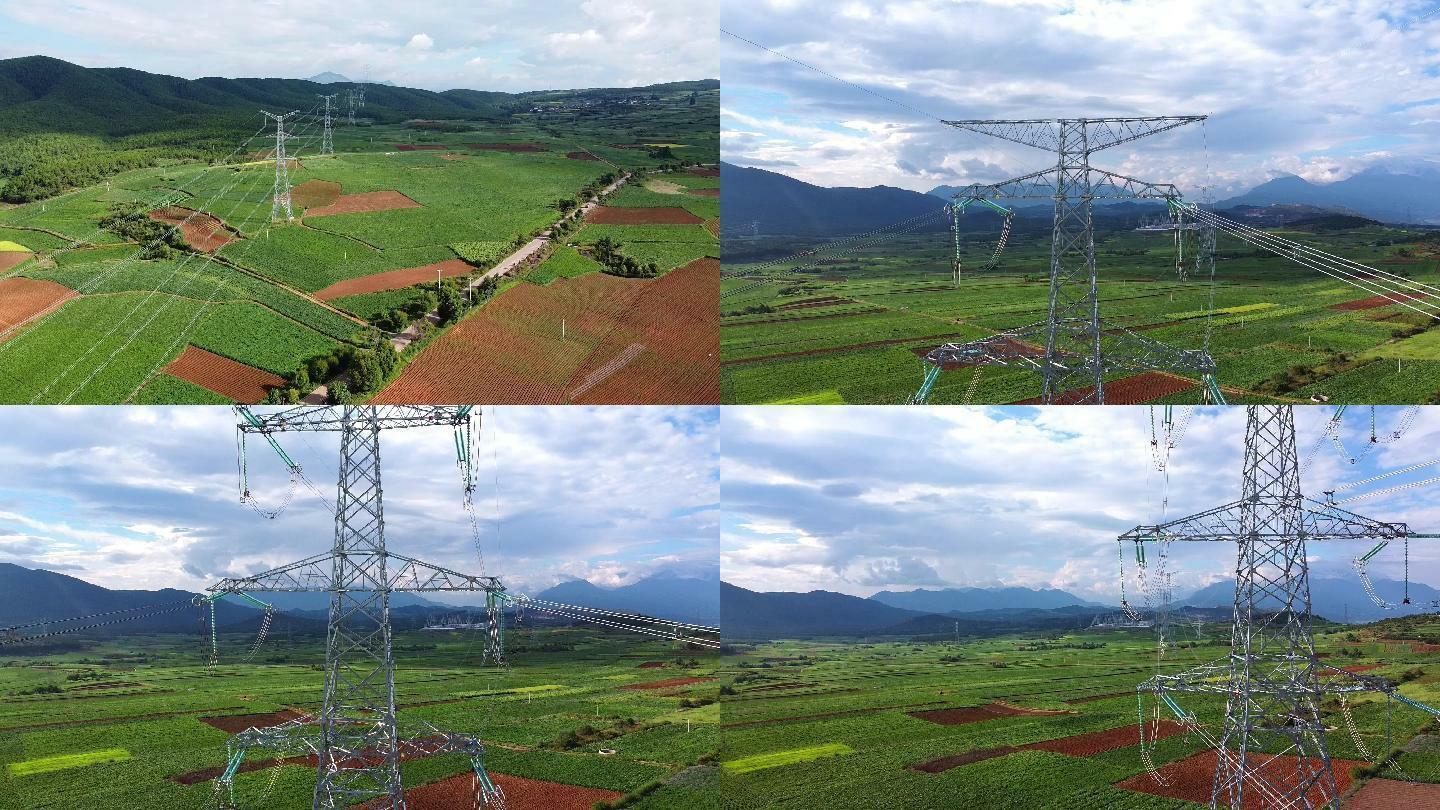power_tower: (213, 397, 522, 810), (1126, 407, 1408, 810), (907, 108, 1233, 404), (254, 108, 309, 228), (316, 91, 342, 151)
